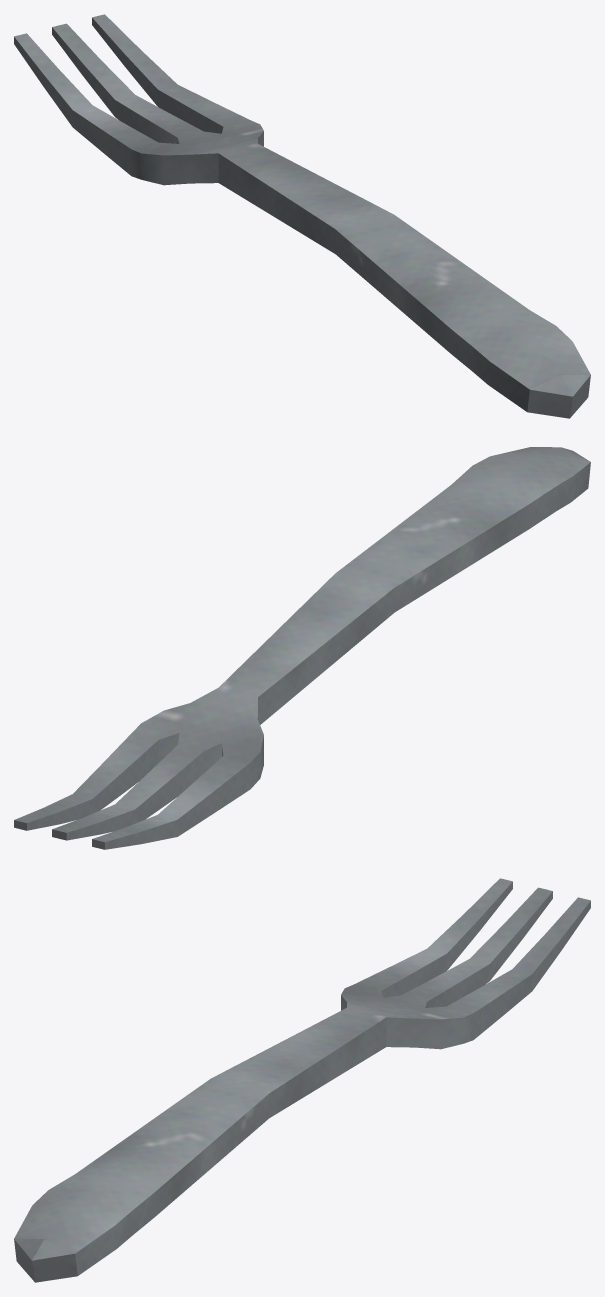
The model's file is CutleryFork.fbx.
3 renders of one model, top to bottom at view 1: azimuth 30°, elevation 25°; view 2: azimuth 150°, elevation 25°; view 3: azimuth 330°, elevation 25°, orthographic.
Visible parts, largest first — view 1: CutleryFork; view 2: CutleryFork; view 3: CutleryFork.
Boxes of the visible parts, x1=… form: CutleryFork: x1=14, y1=14, x2=590, y2=418; CutleryFork: x1=14, y1=447, x2=590, y2=849; CutleryFork: x1=14, y1=878, x2=590, y2=1282.
Bounding box in the file's own units: 0.0244 × 0.0139 × 0.1825.
Materials: 1 (1 with a texture image).
